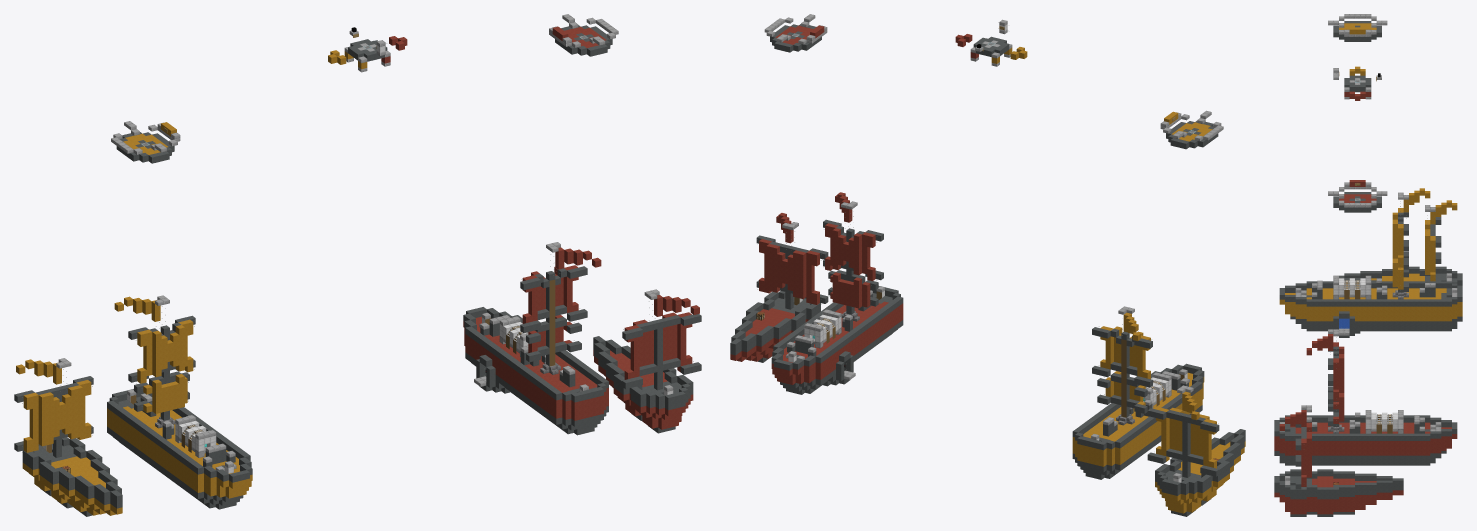
The model's file is minecraft.obj.
3 renders of one model, left to right at view 1: azimuth 30°, elevation 25°; view 2: azimuth 150°, elevation 25°; view 3: azimuth 270°, elevation 25°, orthographic. The views are drawn at different scales.
Bounding box in the file's own units: 1020 × 705 × 350.
